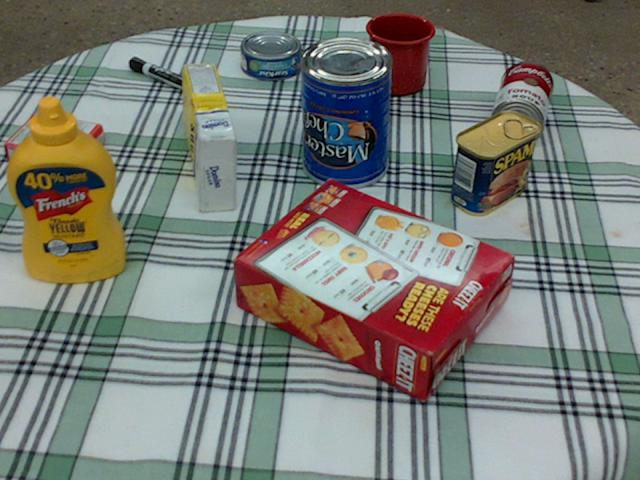cracker_box: (234, 179, 513, 401)
gelatin_box: (6, 114, 103, 173)
large_marker: (129, 56, 201, 94)
master_chef_can: (299, 37, 392, 187)
mug: (367, 13, 436, 94)
mustard_bottle: (7, 96, 125, 281)
potted_meat_can: (450, 111, 538, 215)
sugar_box: (182, 63, 235, 211)
tomato_soup_can: (489, 62, 553, 145)
tuna_fish_can: (241, 31, 301, 79)
